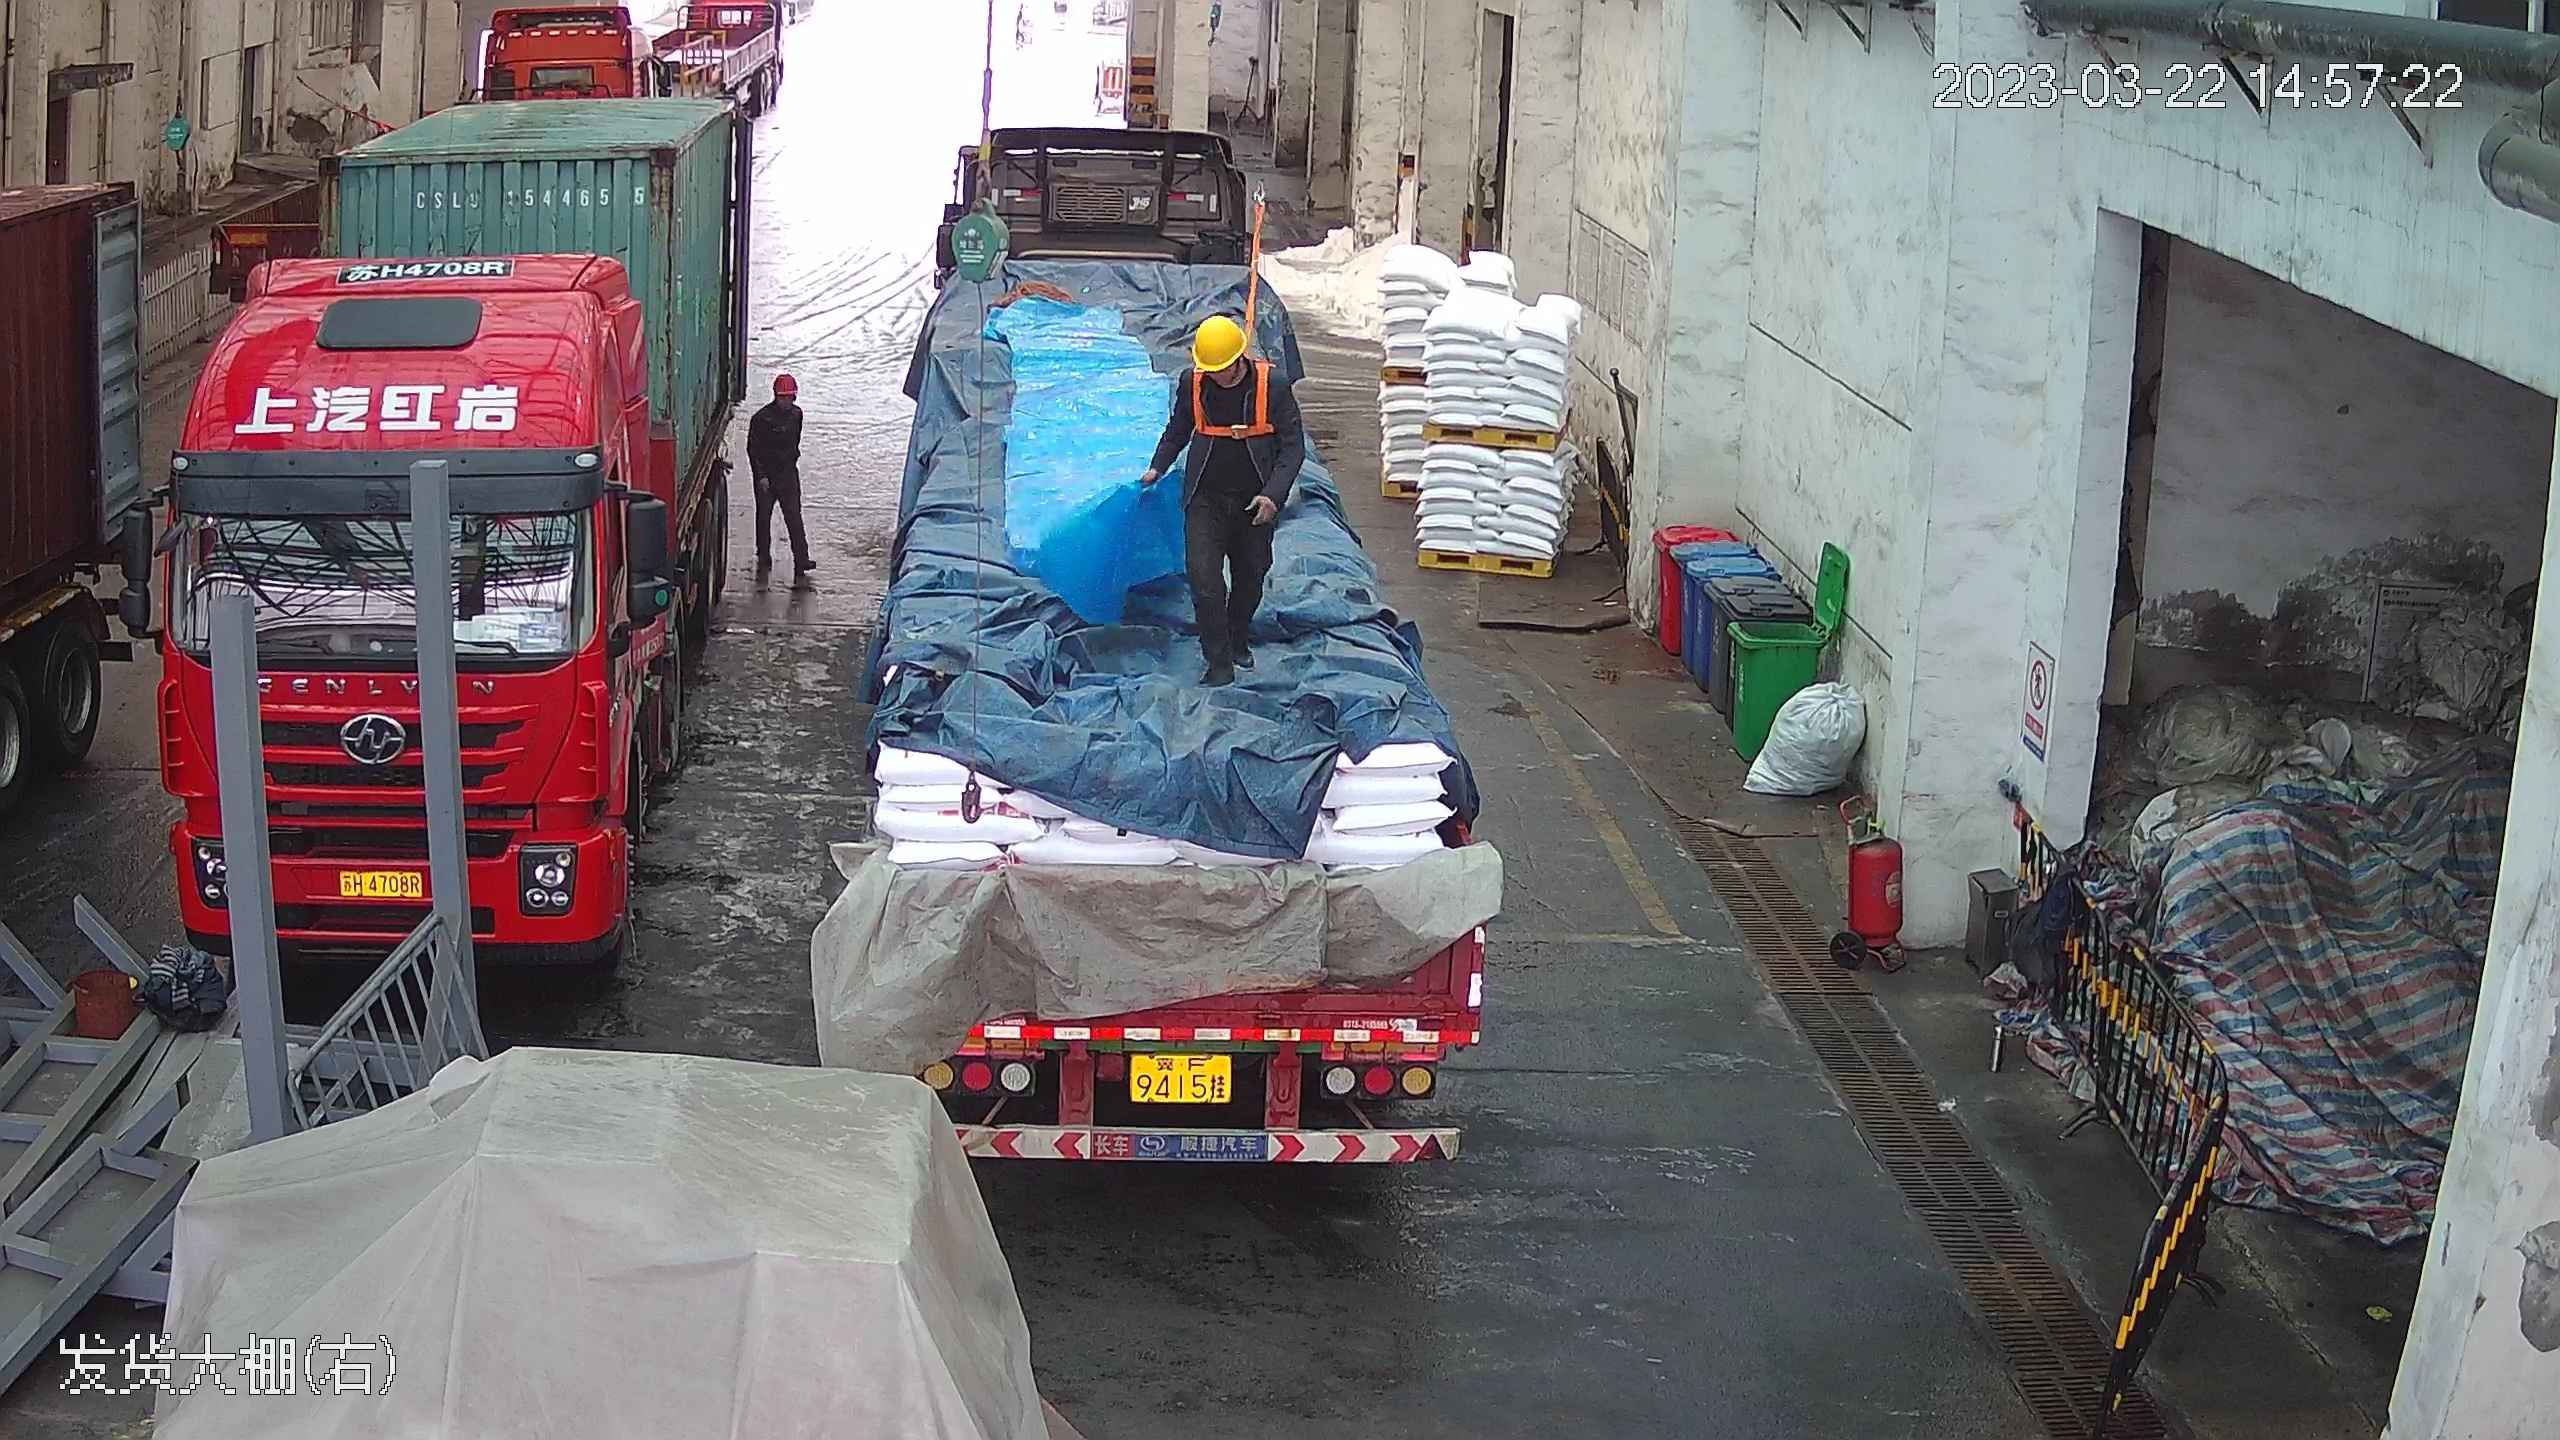belt: (1190, 353, 1274, 444)
head: (1169, 316, 1298, 441), (749, 365, 805, 432)
helmet: (1192, 312, 1251, 372), (770, 367, 798, 392)
people: (1149, 310, 1302, 684), (745, 361, 817, 593)
truck: (846, 91, 1515, 1194), (144, 10, 760, 977), (1, 115, 162, 1089)
